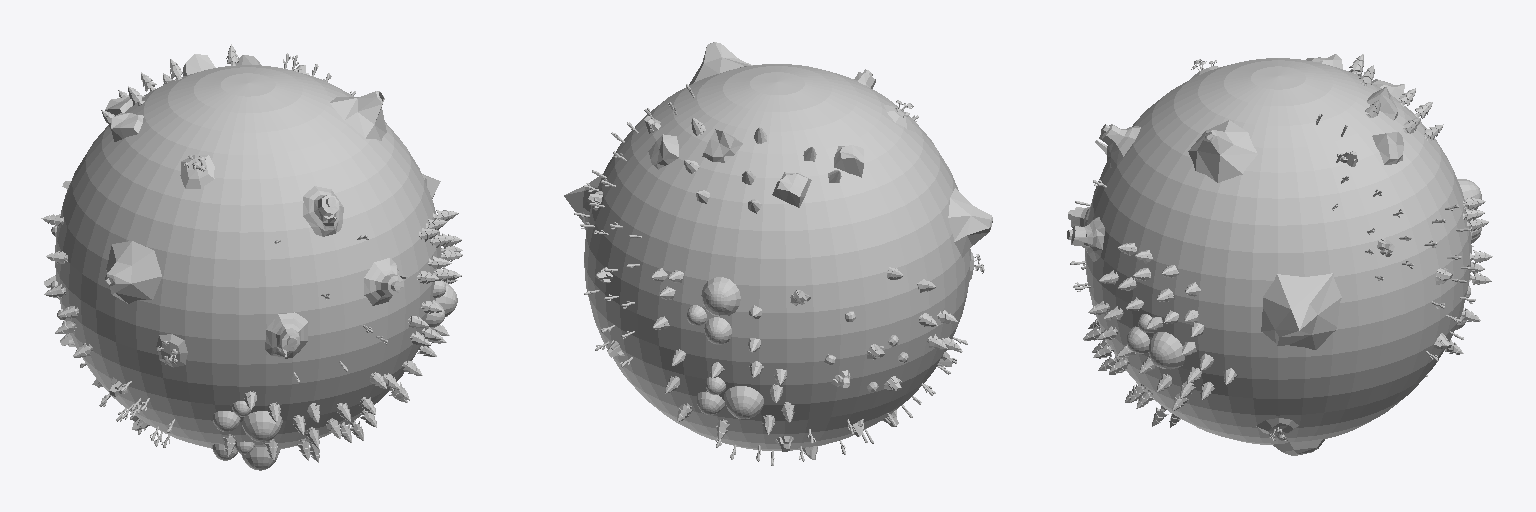
File: terrestrial.obj
The picture shows the model from 3 angles: view 1: azimuth 30°, elevation 25°; view 2: azimuth 150°, elevation 25°; view 3: azimuth 270°, elevation 25°; orthographic projection.
Parts seen in each view (by area): view 1: new_planet_Plane.003, volcano_2.003_volcano_2_volcano_2_Cube.002, volcano_2.002_volcano_2_volcano_2_Cube.002, hill.009_hill_Cube.001, plateau.006_plateau_Plane.001, plateau.005_plateau_Plane.001, plateau.004_plateau_Plane.001, hill.008_hill_Cube.001, island_3.002_island_3_island_3_Cube.002, hill.010_hill_Cube.001, island_3.003_island_3_island_3_Cube.002, ice_chunk.005_ice_chunk_Cube.001; view 2: new_planet_Plane.003, hill.007_hill_Cube.001, hill.006_hill_Cube.001, volcano_2.003_volcano_2_volcano_2_Cube.002, volcano_2.002_volcano_2_volcano_2_Cube.002, ice_chunk.007_ice_chunk_Cube.001, ice_chunk.006_ice_chunk_Cube.001, ice_chunk.005_ice_chunk_Cube.001, ice_chunk.008_ice_chunk_Cube.001, mountain.004_mountain_Plane.000; view 3: new_planet_Plane.003, mountain.004_mountain_Plane.000, volcano_2.002_volcano_2_volcano_2_Cube.002, hill.010_hill_Cube.001, plateau.006_plateau_Plane.001, plateau.004_plateau_Plane.001, ice_chunk.008_ice_chunk_Cube.001, island_3.004_island_3_island_3_Cube.002.
Boxes of the visible parts, <box> form: new_planet_Plane.003: <box>55,65,440,448</box>; volcano_2.003_volcano_2_volcano_2_Cube.002: <box>105,241,161,303</box>; volcano_2.002_volcano_2_volcano_2_Cube.002: <box>330,91,386,140</box>; hill.009_hill_Cube.001: <box>213,401,282,442</box>; plateau.006_plateau_Plane.001: <box>303,186,343,236</box>; plateau.005_plateau_Plane.001: <box>265,312,308,358</box>; plateau.004_plateau_Plane.001: <box>364,258,407,305</box>; hill.008_hill_Cube.001: <box>212,441,280,470</box>; island_3.002_island_3_island_3_Cube.002: <box>180,154,214,188</box>; hill.010_hill_Cube.001: <box>426,280,457,327</box>; island_3.003_island_3_island_3_Cube.002: <box>156,334,187,367</box>; ice_chunk.005_ice_chunk_Cube.001: <box>111,113,143,141</box>; new_planet_Plane.003: <box>584,64,970,450</box>; hill.007_hill_Cube.001: <box>687,277,740,344</box>; hill.006_hill_Cube.001: <box>697,377,763,418</box>; volcano_2.003_volcano_2_volcano_2_Cube.002: <box>948,188,992,257</box>; volcano_2.002_volcano_2_volcano_2_Cube.002: <box>689,42,752,84</box>; ice_chunk.007_ice_chunk_Cube.001: <box>772,172,811,207</box>; ice_chunk.006_ice_chunk_Cube.001: <box>702,129,742,162</box>; ice_chunk.005_ice_chunk_Cube.001: <box>834,145,864,177</box>; ice_chunk.008_ice_chunk_Cube.001: <box>648,134,678,169</box>; mountain.004_mountain_Plane.000: <box>564,173,603,229</box>; new_planet_Plane.003: <box>1085,58,1471,444</box>; mountain.004_mountain_Plane.000: <box>1261,273,1341,349</box>; volcano_2.002_volcano_2_volcano_2_Cube.002: <box>1188,120,1257,182</box>; hill.010_hill_Cube.001: <box>1127,314,1184,369</box>; plateau.006_plateau_Plane.001: <box>1095,124,1140,167</box>; plateau.004_plateau_Plane.001: <box>1067,217,1104,261</box>; ice_chunk.008_ice_chunk_Cube.001: <box>1372,132,1403,164</box>; island_3.004_island_3_island_3_Cube.002: <box>1256,418,1298,440</box>.
Bounding box in the file's own units: 1.56 × 1.34 × 1.48.